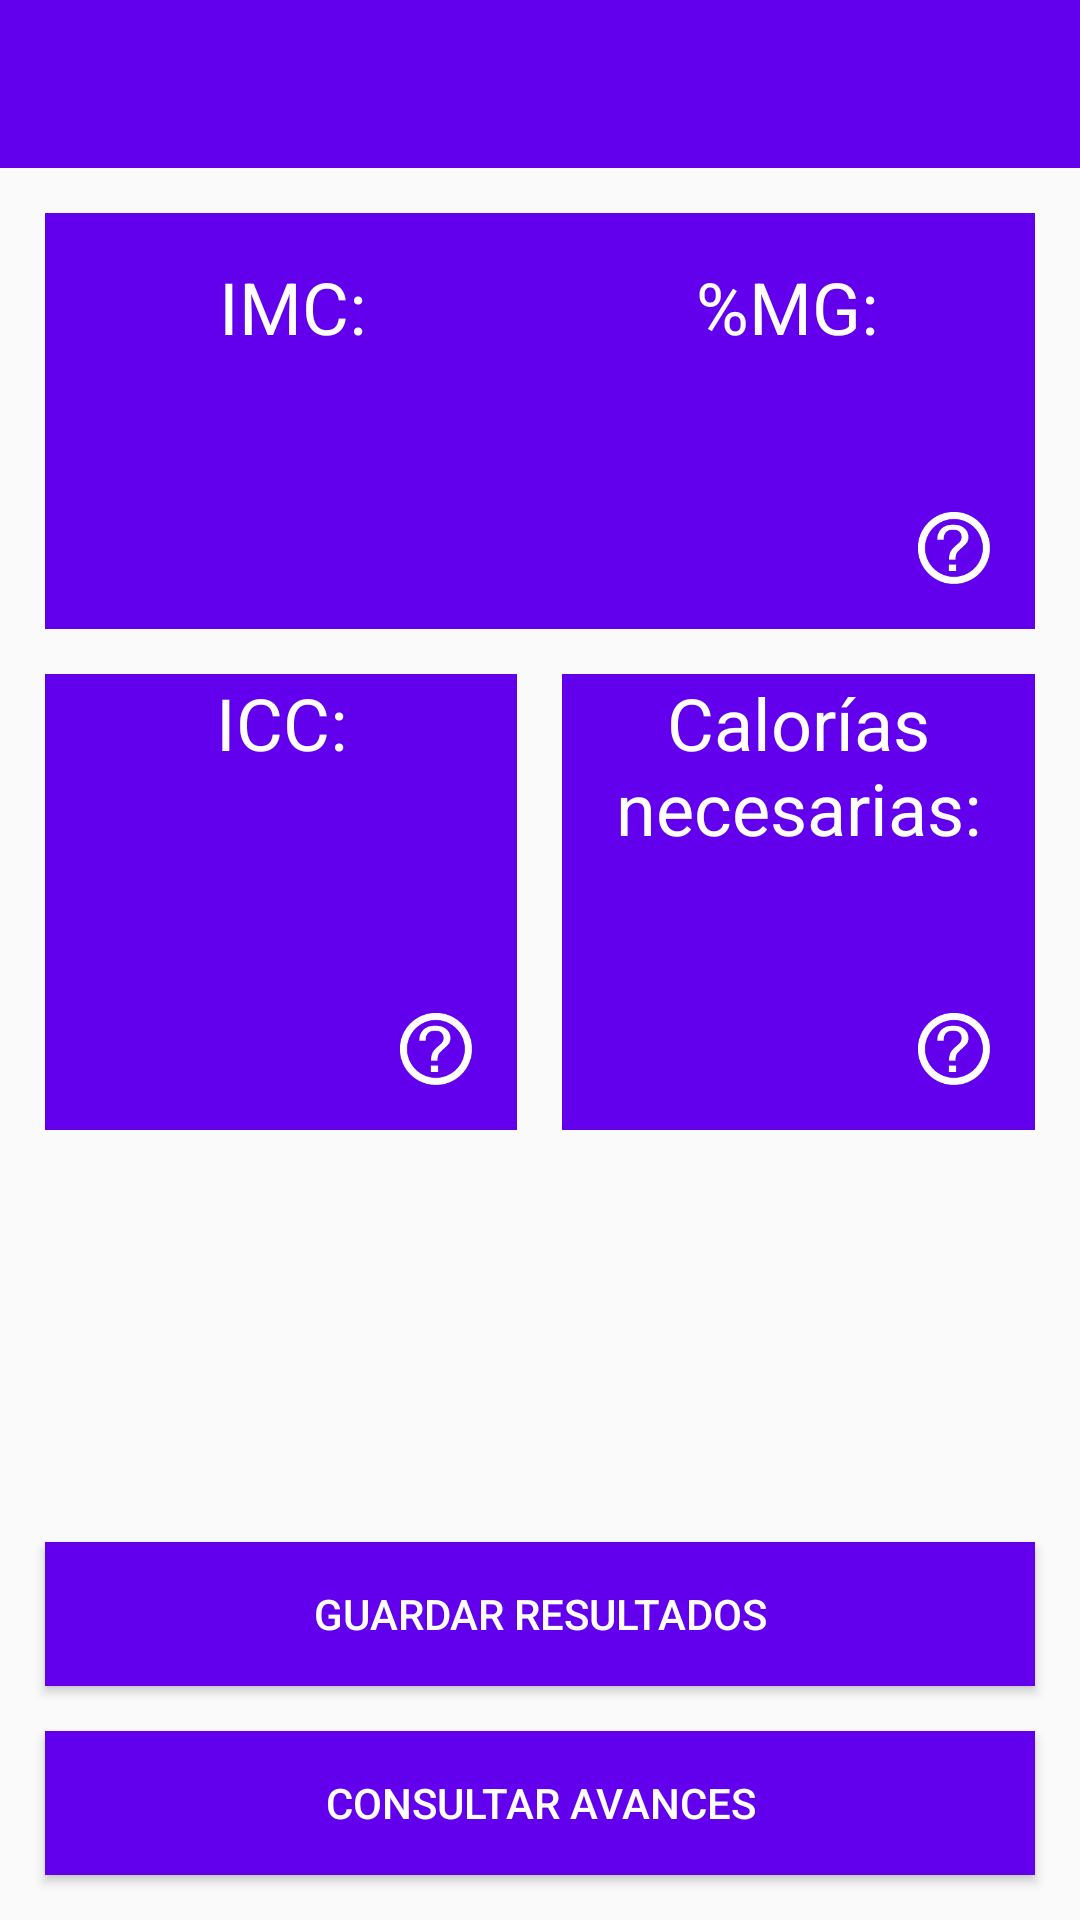

Screen size 1080 x 1920. Icon name, then its box in pixels as (x1, y1, x2, y2):
help: (918, 512, 990, 584), (400, 1013, 472, 1085), (918, 1013, 990, 1085)
